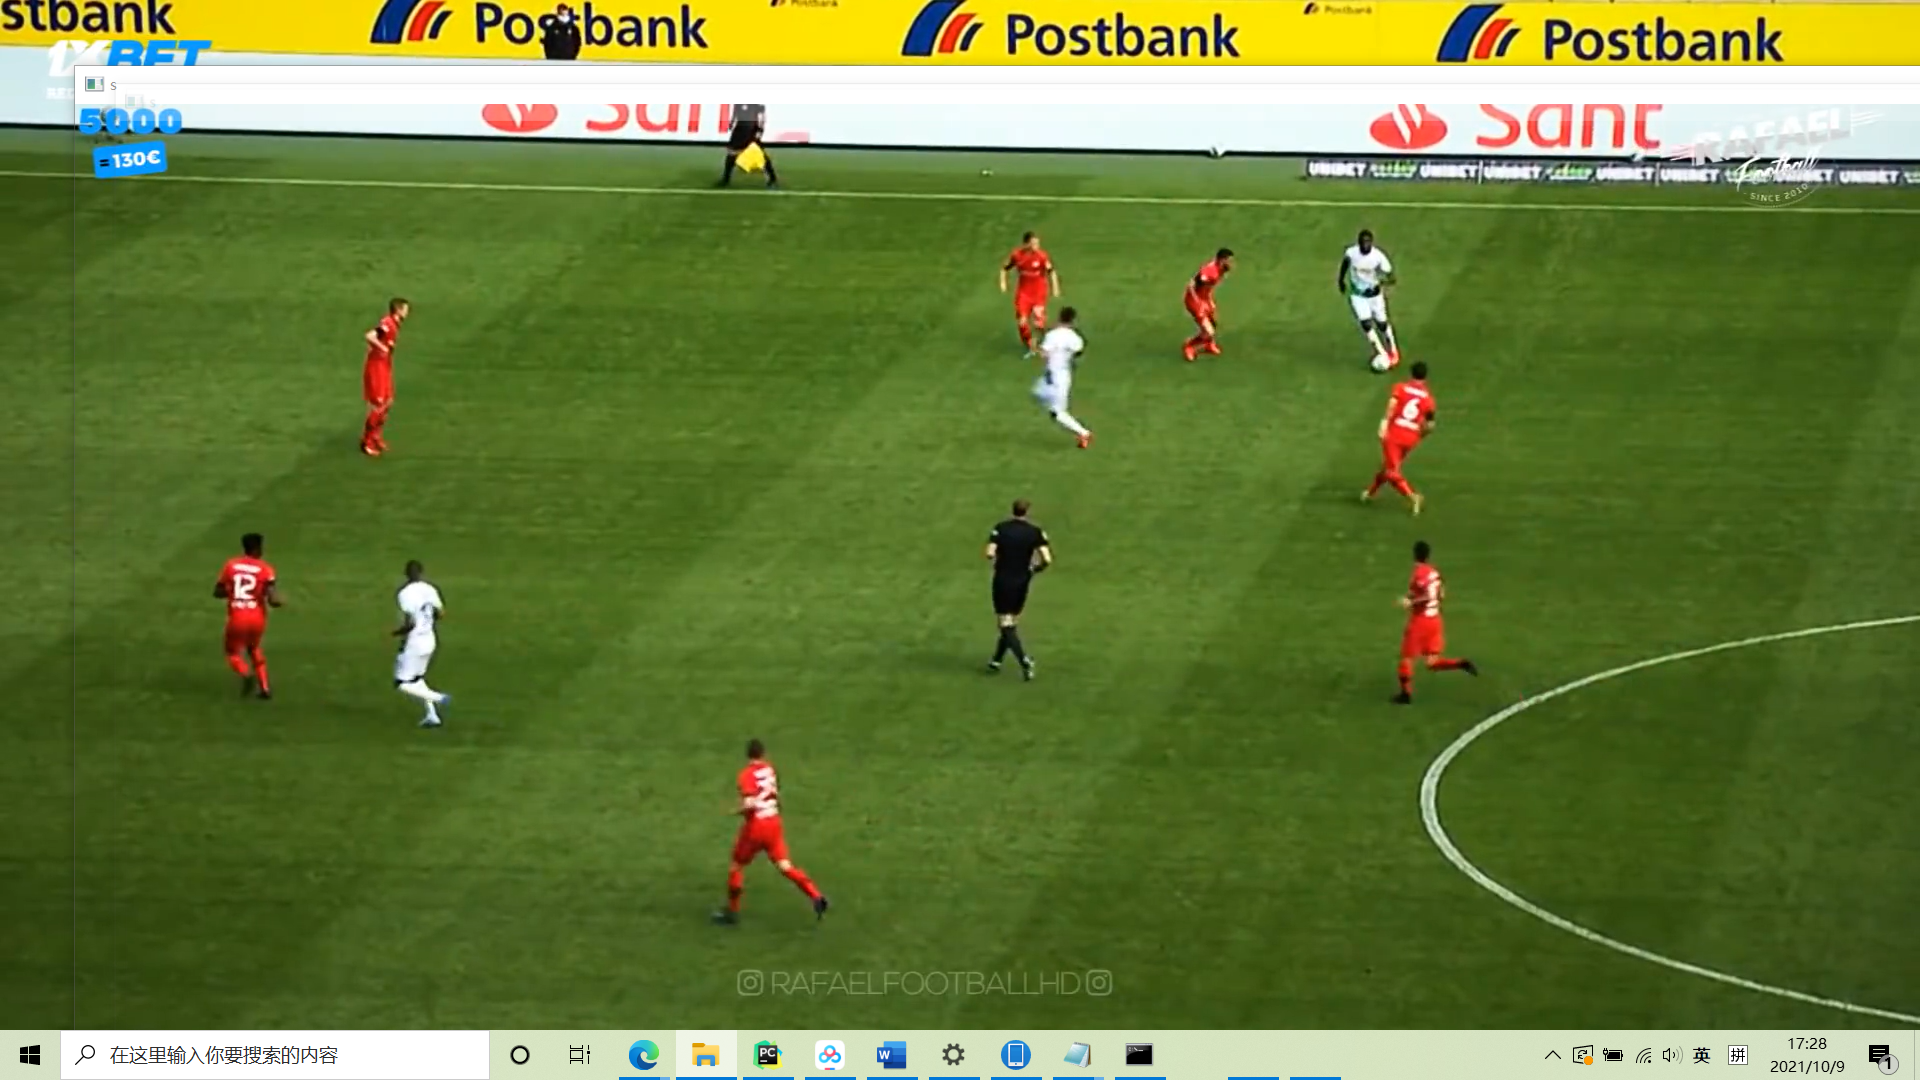ft: (1369, 352, 1393, 375)
